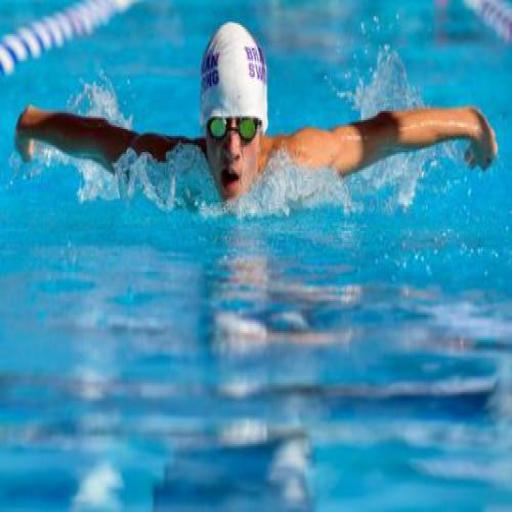swimming: (12, 18, 499, 215)
